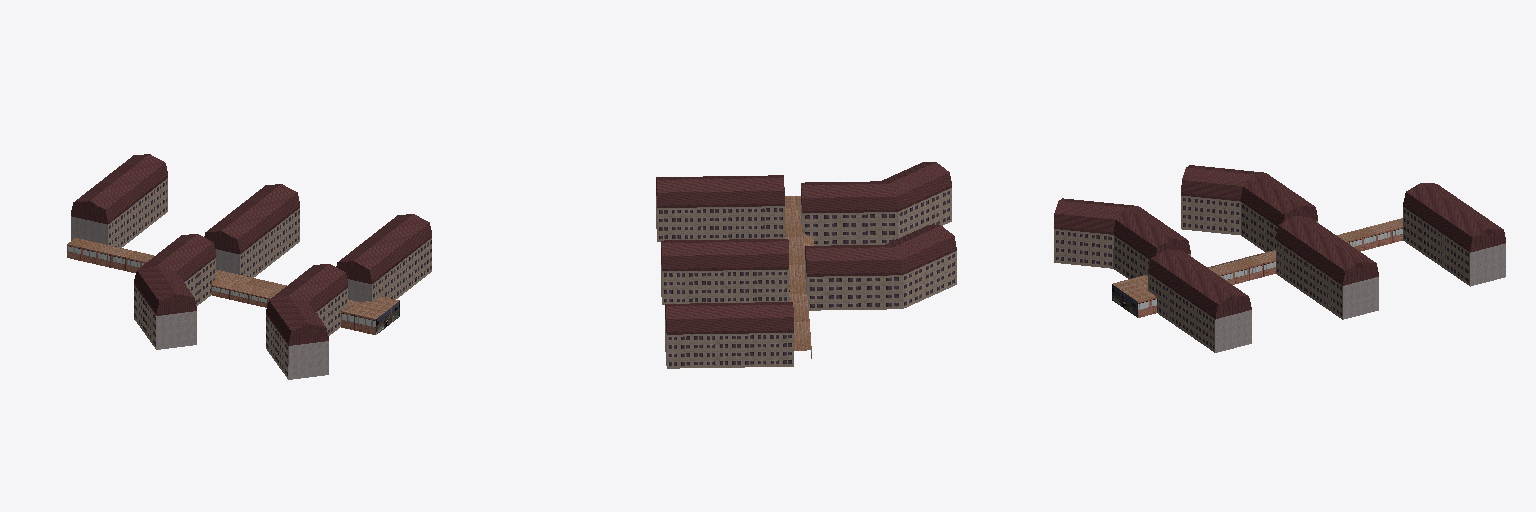
The picture shows the model from 3 angles: view 1: azimuth 30°, elevation 25°; view 2: azimuth 150°, elevation 25°; view 3: azimuth 270°, elevation 25°; orthographic projection.
Visible parts, largest first — view 1: VMtl1387, VMtl1680, VMtl1529, VMtl1681, VMtl1527; view 2: VMtl1680, VMtl1387, VMtl1681; view 3: VMtl1387, VMtl1680, VMtl1529, VMtl1681, VMtl1527.
Part boxes in pixels (left/top/right/bottom): VMtl1387: left=71, top=154, right=431, bottom=345; VMtl1680: left=108, top=178, right=431, bottom=378; VMtl1529: left=71, top=216, right=371, bottom=379; VMtl1681: left=68, top=238, right=399, bottom=318; VMtl1527: left=67, top=244, right=375, bottom=334; VMtl1680: left=657, top=188, right=956, bottom=368; VMtl1387: left=656, top=162, right=956, bottom=334; VMtl1681: left=785, top=196, right=813, bottom=350; VMtl1387: left=1054, top=165, right=1505, bottom=318; VMtl1680: left=1054, top=196, right=1469, bottom=352; VMtl1529: left=1188, top=221, right=1505, bottom=352; VMtl1681: left=1113, top=218, right=1402, bottom=301; VMtl1527: left=1138, top=227, right=1402, bottom=317.
Bounding box in the file's own units: 115 × 20.52 × 156.
Materials: 6 (6 with a texture image).